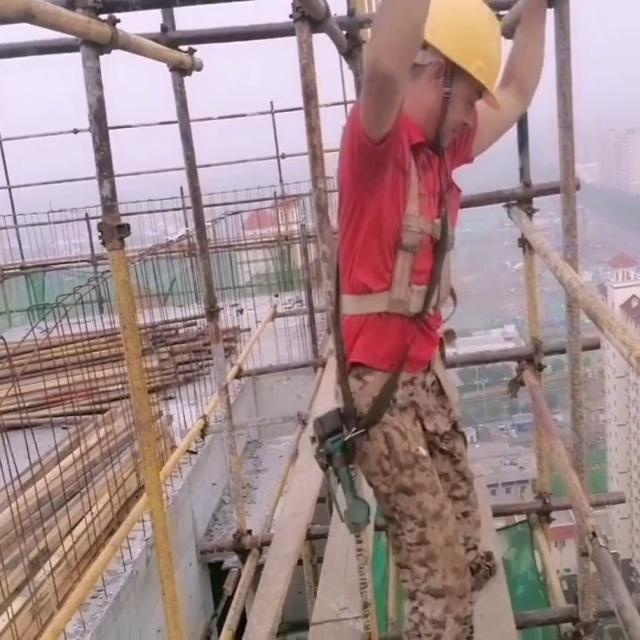Arnes_seguridad: (330, 109, 458, 327)
